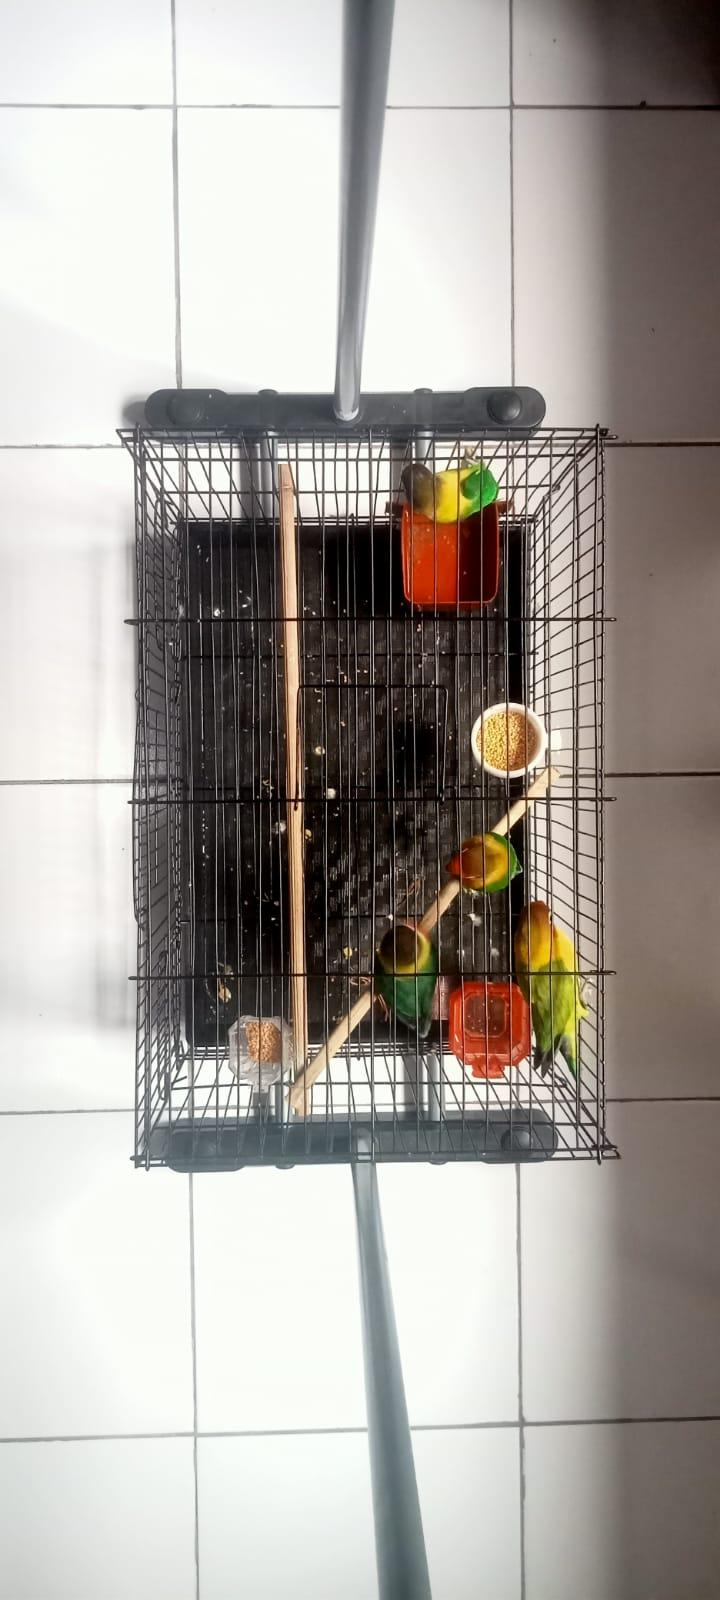LoveBird: (514, 903, 588, 1080), (369, 924, 438, 1038), (402, 462, 497, 524), (444, 831, 522, 894)
